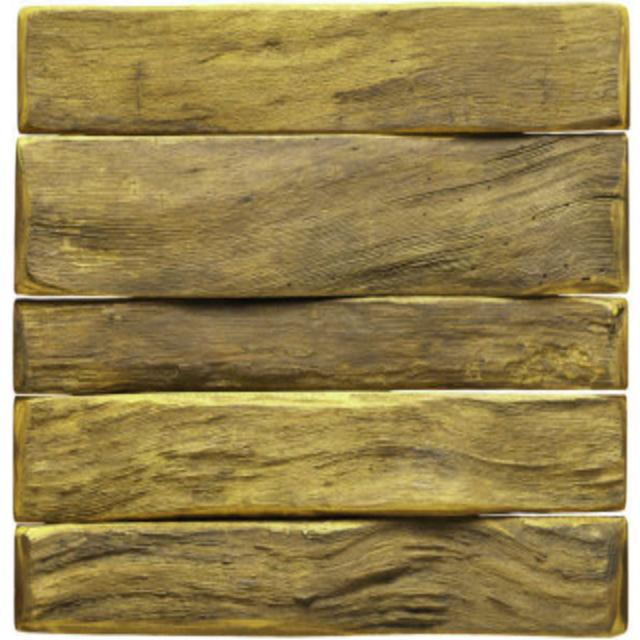perfect-wooden-plate: (17, 135, 629, 296), (14, 390, 626, 521), (18, 6, 628, 133), (15, 517, 628, 633), (14, 297, 628, 393)
